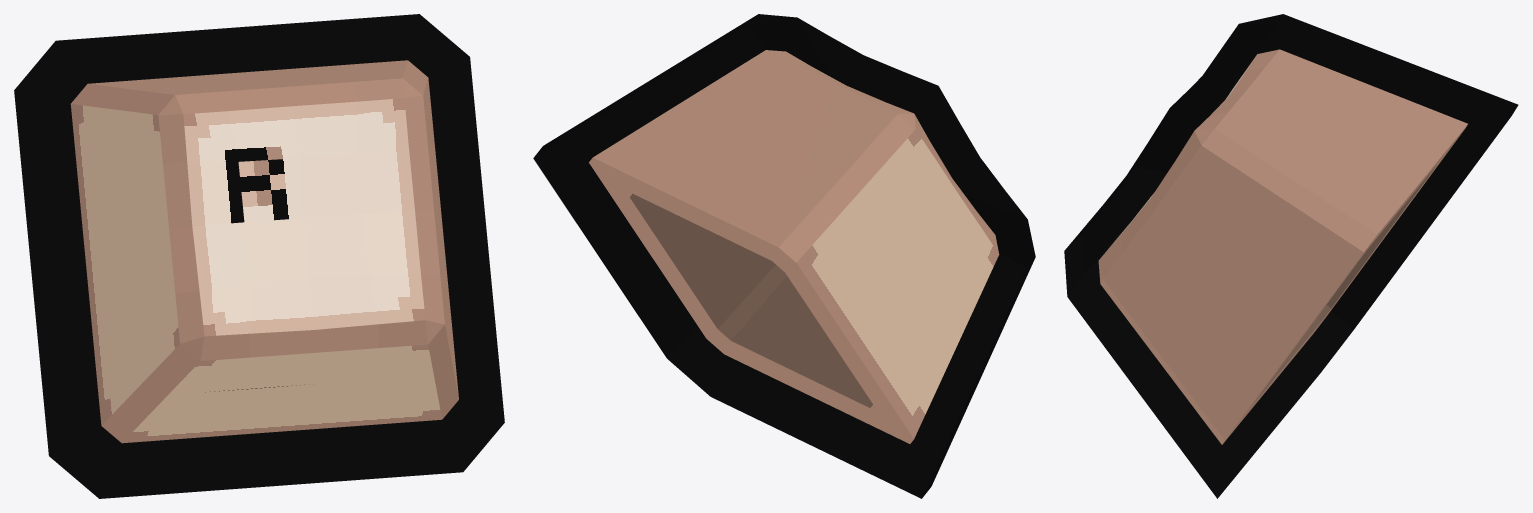
Rendered from r_key_-_the_binding_of_isaac.glb.
3 renders of one model, left to right at view 1: azimuth 30°, elevation 25°; view 2: azimuth 150°, elevation 25°; view 3: azimuth 270°, elevation 25°, orthographic. The views are drawn at different scales.
Visible parts, largest first — view 1: r key; view 2: r key; view 3: r key.
Boxes of the visible parts, left/top/right/bottom form: r key: left=14, top=14, right=504, bottom=498; r key: left=533, top=14, right=1035, bottom=498; r key: left=1064, top=14, right=1518, bottom=498.
Size of the model in its own units: 3.41 by 3.28 by 3.57.
Materials: 1 (1 with a texture image).
